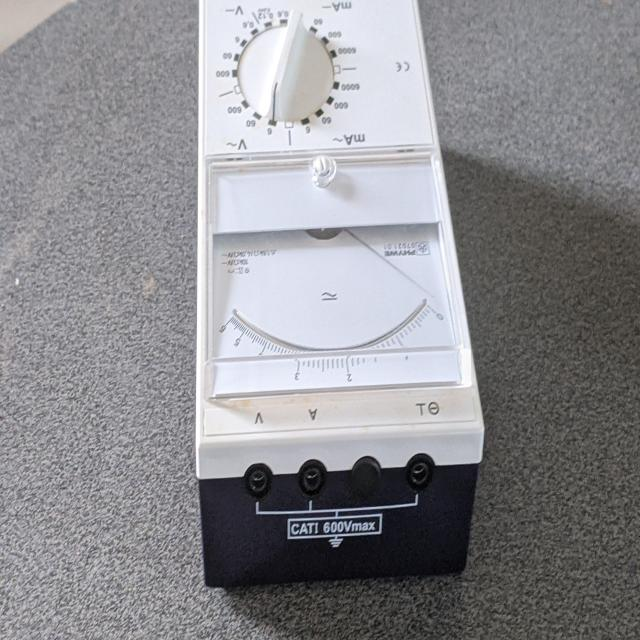Analog Multimeter: (186, 5, 497, 604)
